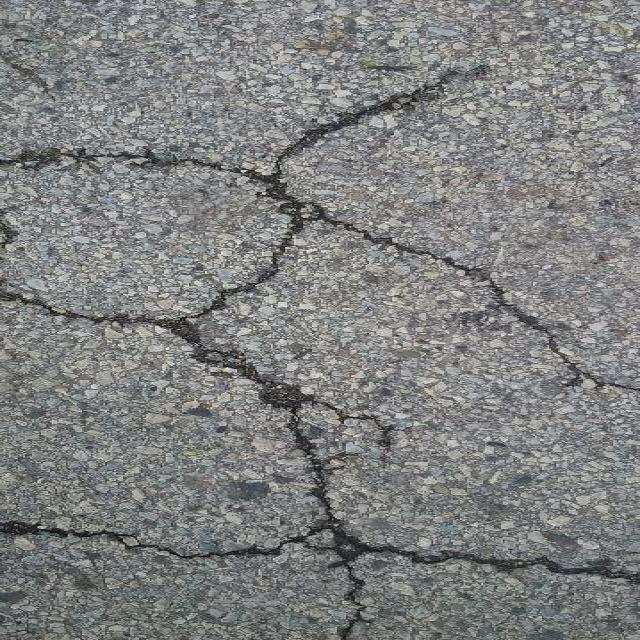GRIETA: (307, 202, 637, 390), (0, 293, 321, 409), (273, 65, 487, 170), (289, 414, 366, 634), (341, 529, 639, 583), (192, 205, 303, 318), (0, 520, 318, 559), (0, 148, 271, 182)
